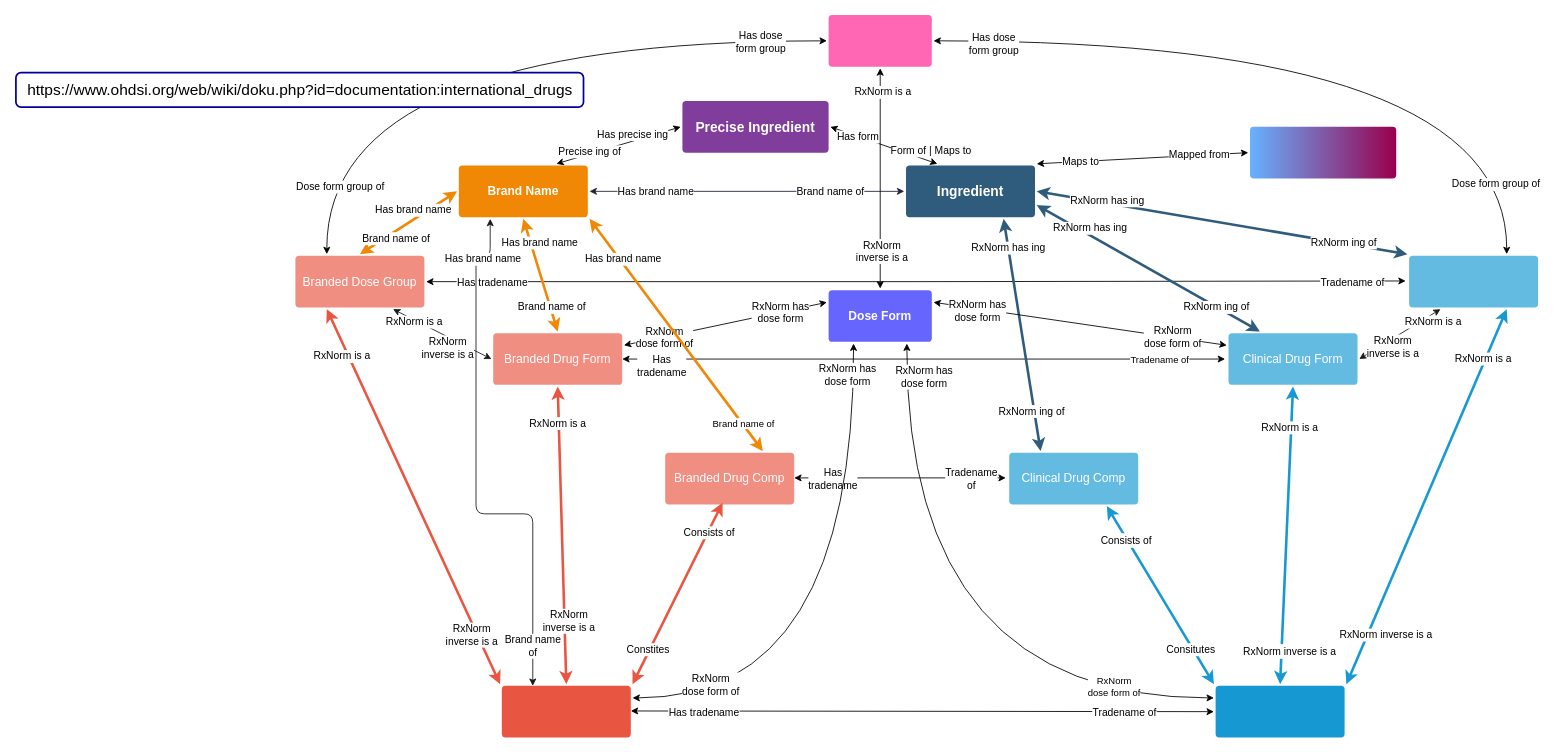
This 1555x752 diagram has some shape labels left out. Each missing label, with the centre of its shape:
"Branded Drug" goes at pixel 565 711.
"Clinical Dose Group" goes at pixel 1473 281.
"Clinical Drug" goes at pixel 1279 711.
"Dose Form Group" goes at pixel 879 40.
"Multiple Ingredients" goes at pixel 1323 152.
